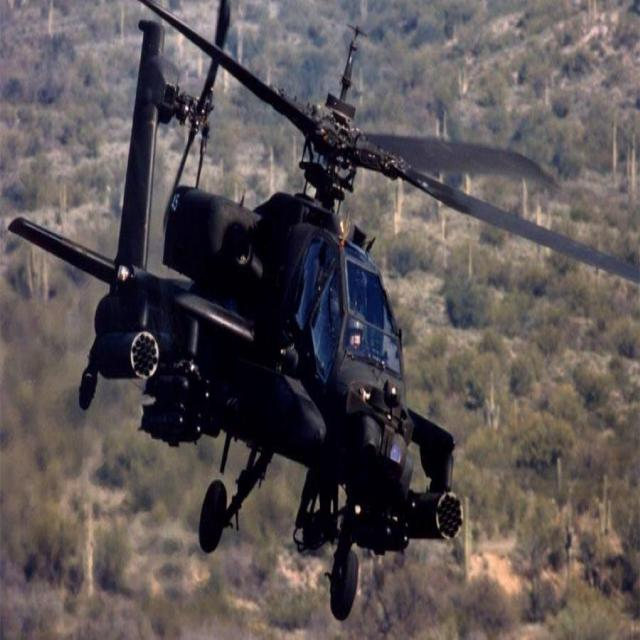MIL_HELO: (0, 0, 639, 623)
